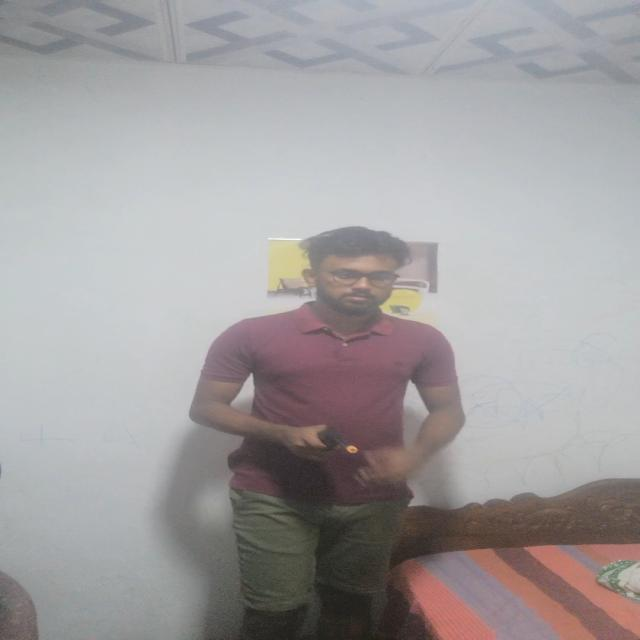Gun_Holder: (290, 422, 381, 460)
Person: (179, 226, 462, 640)
